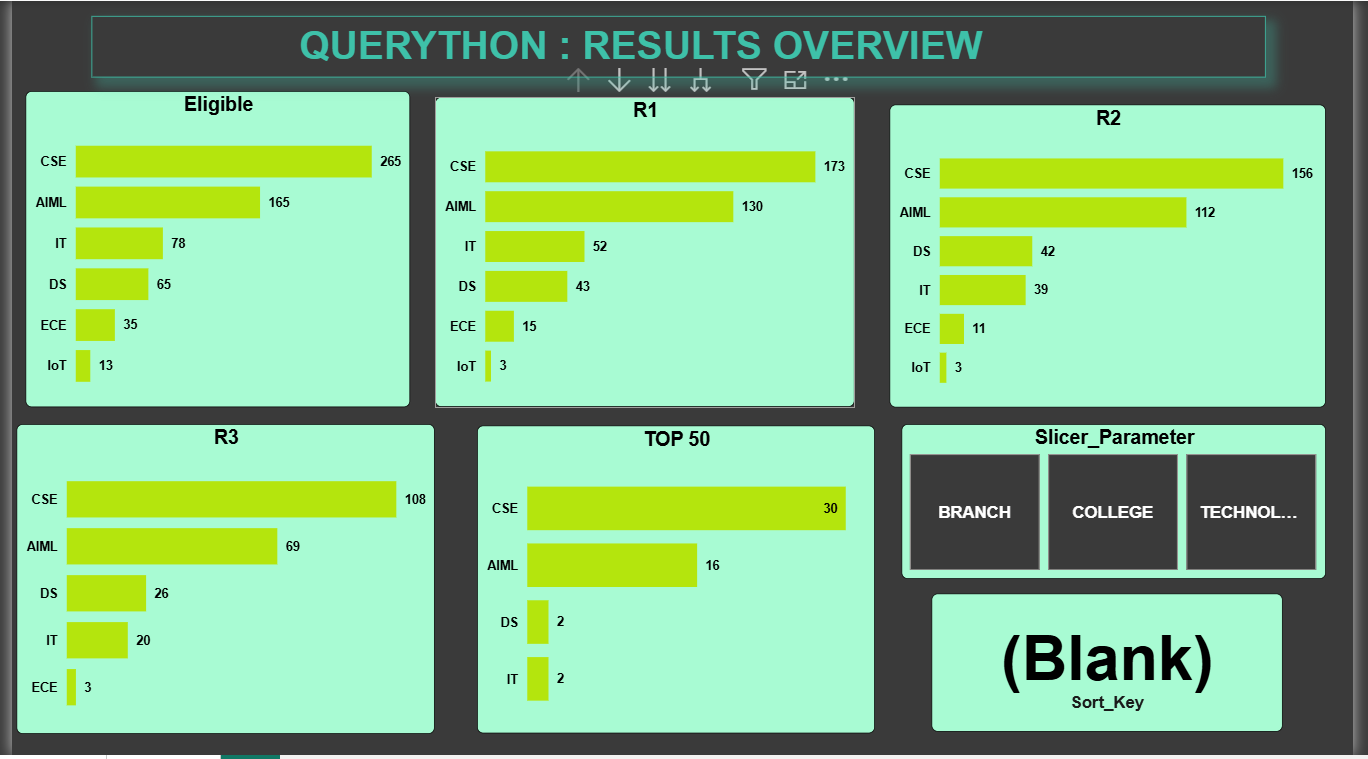

Layout of this report page (visuals, bound fields, positions):
{"tool":"powerbi","page":{"name":"Page 1","canvas":[1280,720],"ordinal":0},"visuals":[{"type":"barChart","title":"Eligible","fields":{"Category":["Tech_sort.NewTech"],"Y":["CountNonNull(Master.ROLL NO)"]},"box":[12.7,85.9,367.4,302.2],"z":0},{"type":"barChart","title":"R1","fields":{"Category":["Tech_sort.NewTech"],"Y":["CountNonNull(Master.ROLL NO)"]},"box":[404,92.3,400.8,295.9],"z":1000},{"type":"barChart","title":"R2","fields":{"Category":["Tech_sort.NewTech"],"Y":["CountNonNull(Master.ROLL NO)"]},"box":[838.3,98.6,416.7,289.5],"z":2000},{"type":"clusteredBarChart","title":"R3","fields":{"Category":["Tech_sort.NewTech"],"Y":["CountNonNull(Master.ROLL NO)"]},"box":[4.8,404,399.2,295.9],"z":3000},{"type":"clusteredBarChart","title":"TOP 50","fields":{"Category":["Tech_sort.NewTech"],"Y":["CountNonNull(Master.ROLL NO)"]},"box":[443.8,405.6,380.2,294.3],"z":4000},{"type":"advancedSlicerVisual","fields":{"Values":["Slicer_Parameter.Slicer_Parameter"]},"box":[849.4,404,405.6,147.9],"z":5000},{"type":"textbox","box":[76.3,14.3,1121.4,58.9],"z":6000},{"type":"card","fields":{"Values":["Branch_sort.Sort_Key"]},"box":[878,566.3,335.6,132],"z":7000}]}

Visuals, with their boxes in screenshot pixels (x1, y1, x2, y2), scaled from the page's 1280x720 canvas onto the 1368x759 screenshot:
"Eligible" barChart: x1=14, y1=91, x2=406, y2=409
"R1" barChart: x1=432, y1=97, x2=860, y2=409
"R2" barChart: x1=896, y1=104, x2=1341, y2=409
"R3" clusteredBarChart: x1=5, y1=426, x2=432, y2=738
"TOP 50" clusteredBarChart: x1=474, y1=428, x2=881, y2=738
advancedSlicerVisual - Slicer_Parameter.Slicer_Parameter: x1=908, y1=426, x2=1341, y2=582
textbox: x1=82, y1=15, x2=1280, y2=77
card - Branch_sort.Sort_Key: x1=938, y1=597, x2=1297, y2=736
